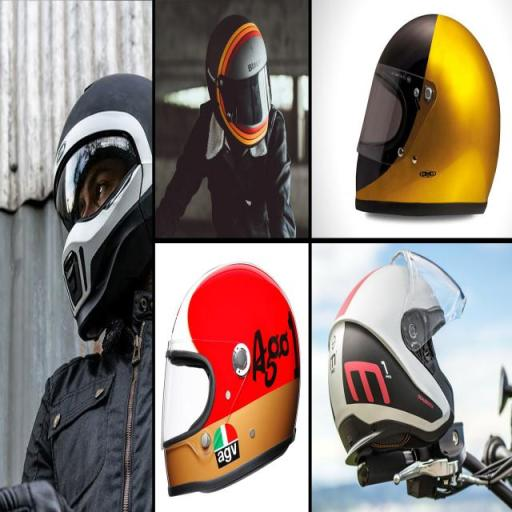Helmet: (292, 239, 488, 494), (135, 250, 328, 484), (350, 20, 494, 226), (41, 84, 139, 316), (200, 7, 285, 151)
